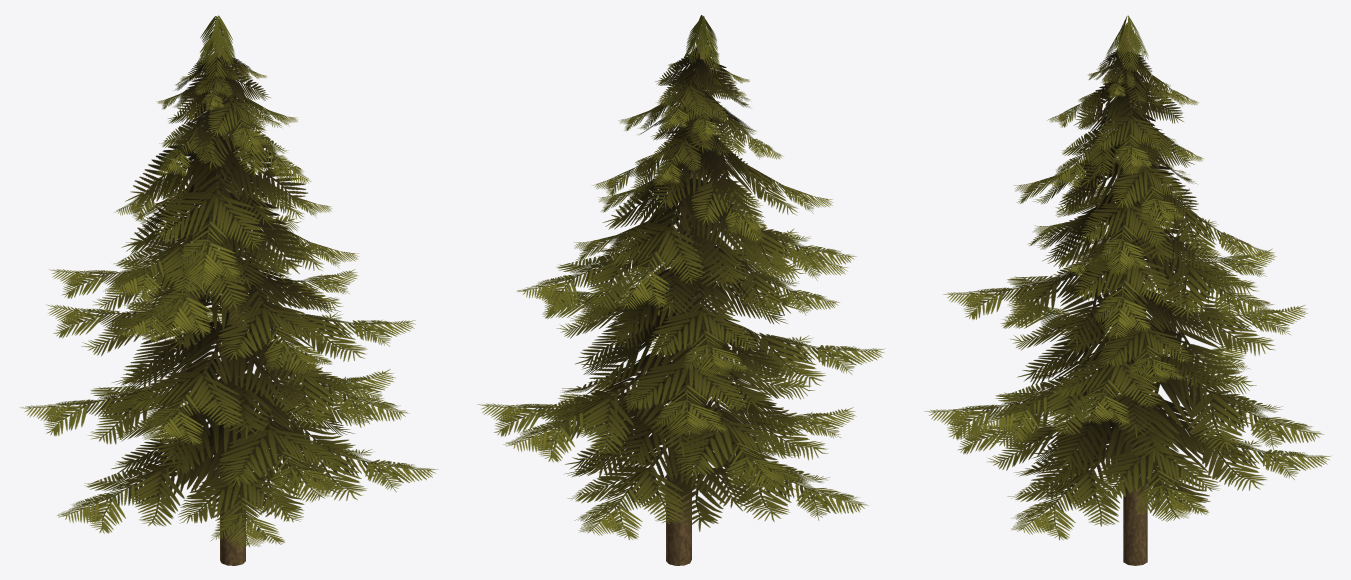
File: tree_pine.glb
3 views of the same model, side by side, from view 1: azimuth 30°, elevation 25°; view 2: azimuth 150°, elevation 25°; view 3: azimuth 270°, elevation 25° (orthographic). The views are drawn at different scales.
Parts seen in each view (by area): view 1: Leaves/001, Trank.001; view 2: Leaves/001, Trank.001; view 3: Leaves/001, Trank.001.
Part boxes in pixels (left/top/right/bottom): Leaves/001: left=19, top=15, right=438, bottom=548; Trank.001: left=214, top=29, right=245, bottom=565; Leaves/001: left=477, top=15, right=885, bottom=540; Trank.001: left=666, top=28, right=705, bottom=565; Leaves/001: left=924, top=15, right=1331, bottom=540; Trank.001: left=1121, top=28, right=1147, bottom=565.
Bounding box in the file's own units: 217 × 308 × 217.
2 materials, 2 textured.
